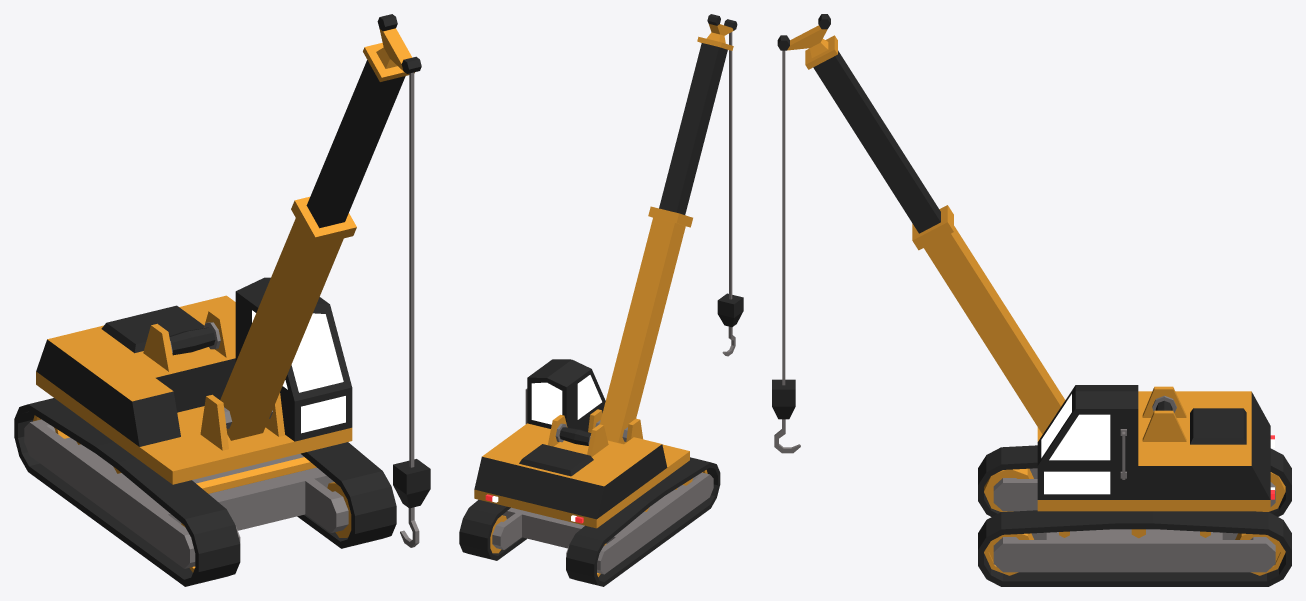
File: vehicles-crane-crawler.glb
3 renders of one model, left to right at view 1: azimuth 30°, elevation 25°; view 2: azimuth 150°, elevation 25°; view 3: azimuth 270°, elevation 25°, orthographic. The views are drawn at different scales.
Parts seen in each view (by area): view 1: crane-crawler-base, crane-crawler-arm, crane-crawler-belt, crane-crawler-chassis, crane-crawler-hook, crane-crawler-wheel_TF; view 2: crane-crawler-base, crane-crawler-arm, crane-crawler-belt, crane-crawler-chassis, crane-crawler-hook; view 3: crane-crawler-base, crane-crawler-arm, crane-crawler-belt, crane-crawler-chassis, crane-crawler-hook, crane-crawler-wheel_F, crane-crawler-wheel_B.
Part boxes in pixels (box(x1,y1,x2,y2)): crane-crawler-base: box(36, 277, 352, 484); crane-crawler-arm: box(220, 14, 421, 440); crane-crawler-belt: box(14, 398, 396, 586); crane-crawler-chassis: box(24, 419, 348, 568); crane-crawler-hook: box(393, 72, 430, 547); crane-crawler-wheel_TF: box(196, 457, 316, 493); crane-crawler-base: box(474, 359, 689, 528); crane-crawler-arm: box(595, 14, 737, 444); crane-crawler-belt: box(459, 457, 720, 586); crane-crawler-chassis: box(492, 472, 713, 574); crane-crawler-hook: box(717, 32, 743, 356); crane-crawler-base: box(1037, 385, 1274, 511); crane-crawler-arm: box(777, 14, 1065, 434); crane-crawler-belt: box(978, 445, 1291, 586); crane-crawler-chassis: box(993, 468, 1275, 572); crane-crawler-hook: box(772, 50, 800, 453); crane-crawler-wheel_F: box(984, 468, 1033, 575); crane-crawler-wheel_B: box(1235, 472, 1285, 575).
Size of what is drawn, in the model's own units: 3.1 by 9.29 by 8.27.
